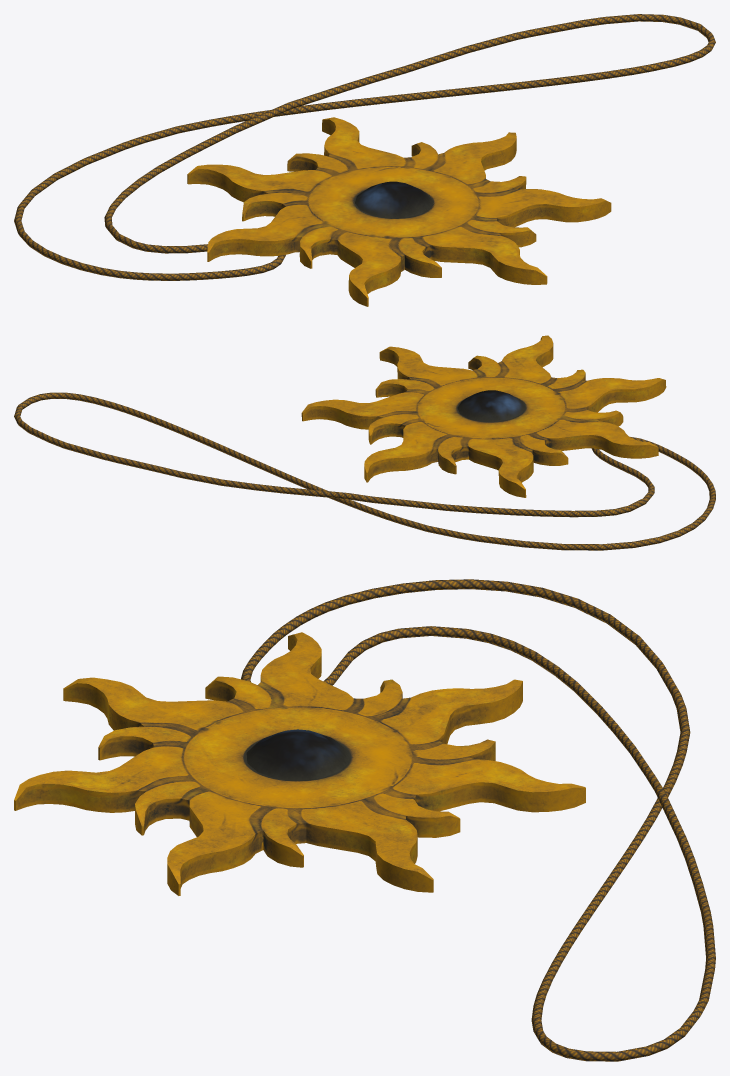
The model's file is kulon.fbx.
3 views of the same model, one above another, from view 1: azimuth 30°, elevation 25°; view 2: azimuth 150°, elevation 25°; view 3: azimuth 270°, elevation 25° (orthographic). The views are drawn at different scales.
Visible parts, largest first — view 1: Kulon; view 2: Kulon; view 3: Kulon.
Boxes of the visible parts, x1,y1,x2,y2 form: Kulon: (14,14,715,306); Kulon: (14,335,715,550); Kulon: (14,579,715,1061).
Bounding box in the file's own units: 0.1425 × 0.00675 × 0.0887.
1 material, 1 textured.
